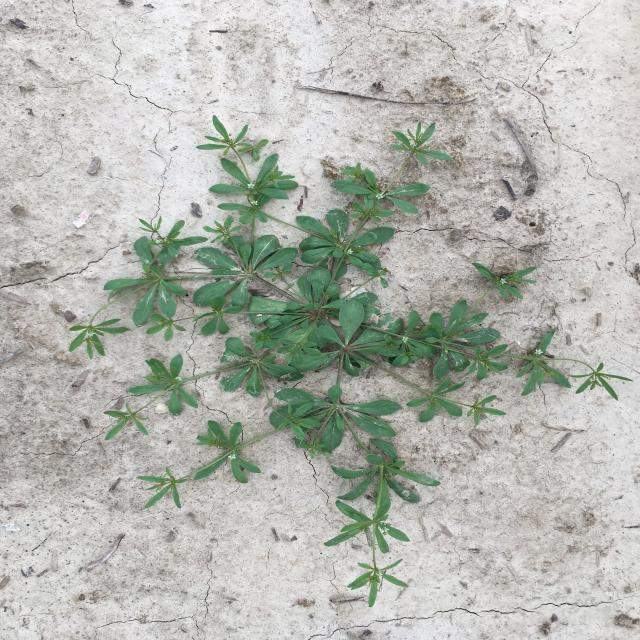Carpetweed: (68, 114, 634, 608)
